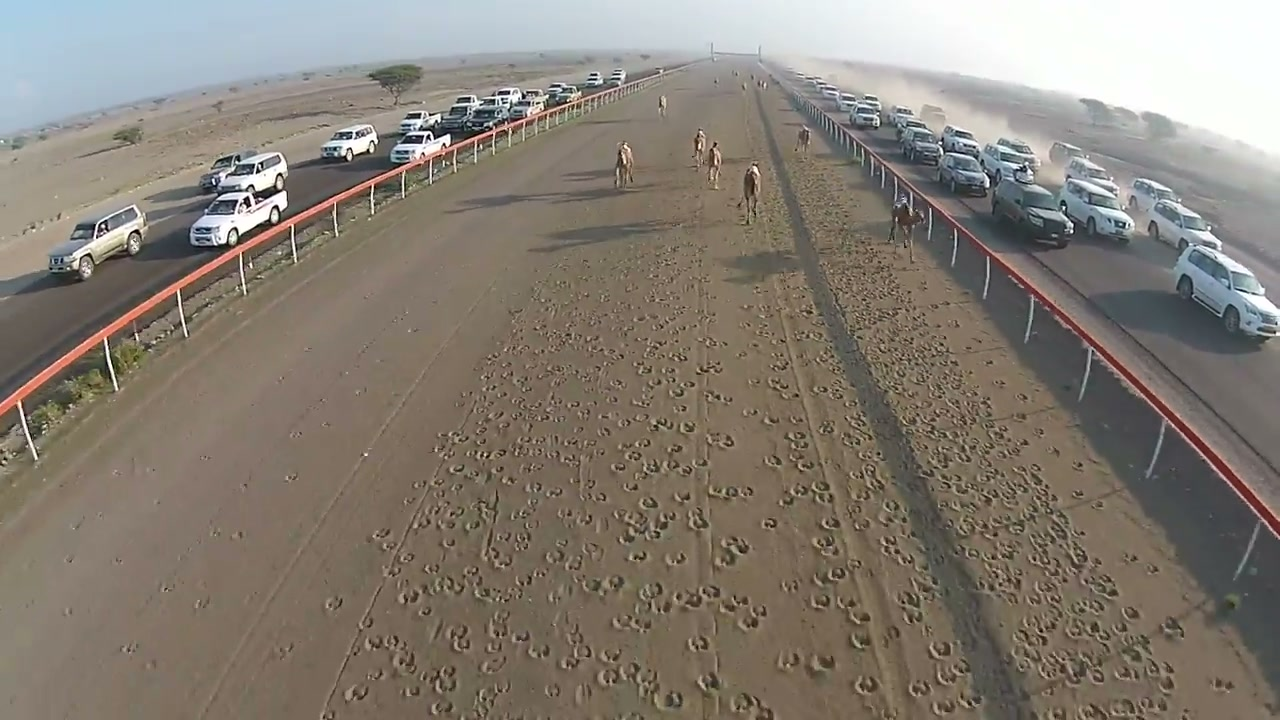animal_footprint: (332, 154, 1251, 717), (332, 205, 900, 717), (784, 158, 1273, 717)
